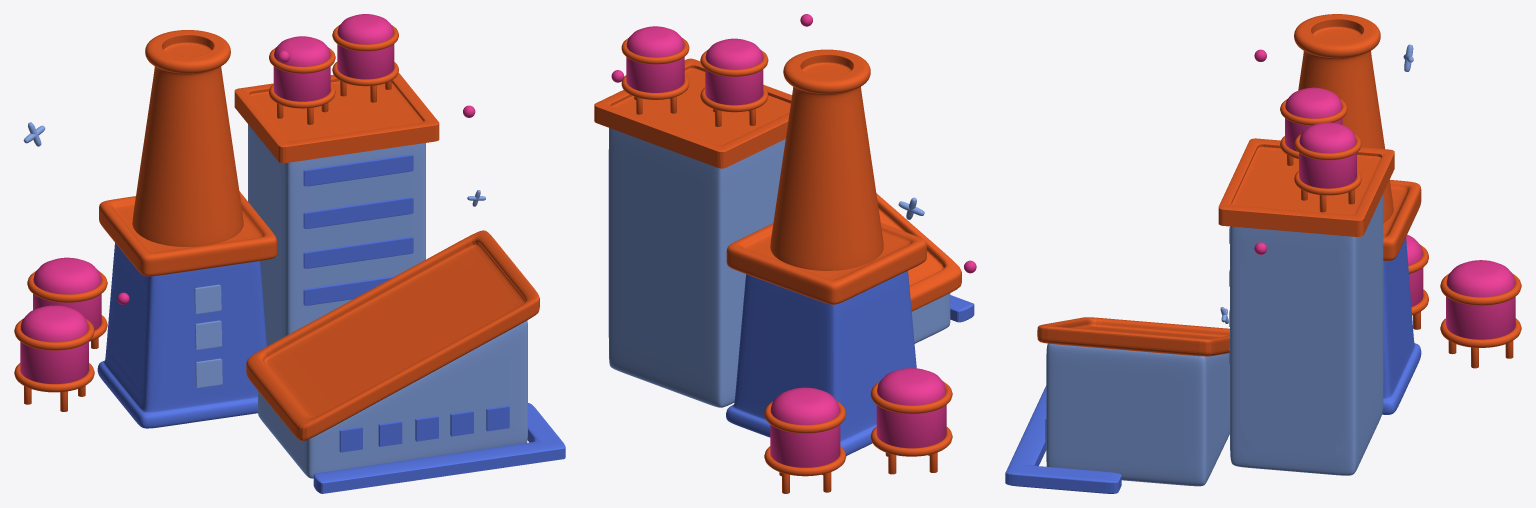
The model's file is industry-3d-animated-icon-602724012433.glb.
3 renders of one model, left to right at view 1: azimuth 30°, elevation 25°; view 2: azimuth 150°, elevation 25°; view 3: azimuth 270°, elevation 25°, orthographic.
Parts seen in each view (by area): view 1: Cube.018, Cube.011, Cube.010, Cylinder.020, Cylinder.008, Cylinder.003, Cylinder.013; view 2: Cube.011, Cube.010, Cylinder.020, Cylinder.013, Cube.018, Cylinder.003, Cylinder.008; view 3: Cube.010, Cube.018, Cube.011, Cylinder.013, Cylinder.008, Cylinder.003, Cylinder.020.
Part boxes in pixels (<box>): Cube.018: <box>246,230,565,493</box>; Cube.011: <box>97,30,276,428</box>; Cube.010: <box>234,72,439,346</box>; Cylinder.020: <box>14,305,94,411</box>; Cylinder.008: <box>332,14,398,102</box>; Cylinder.003: <box>269,36,335,124</box>; Cylinder.013: <box>27,257,107,348</box>; Cube.011: <box>726,49,926,455</box>; Cube.010: <box>594,58,791,407</box>; Cylinder.020: <box>870,368,952,474</box>; Cylinder.013: <box>764,387,846,493</box>; Cube.018: <box>876,193,974,343</box>; Cylinder.003: <box>700,38,768,126</box>; Cylinder.008: <box>621,26,689,114</box>; Cube.010: <box>1218,138,1394,475</box>; Cube.018: <box>1005,317,1229,493</box>; Cube.011: <box>1294,14,1421,414</box>; Cylinder.013: <box>1440,260,1521,368</box>; Cylinder.008: <box>1294,122,1361,212</box>; Cylinder.003: <box>1280,87,1347,165</box>; Cylinder.020: <box>1406,235,1428,329</box>.
Size of the model in its own units: 5.69 by 4.93 by 6.42.
